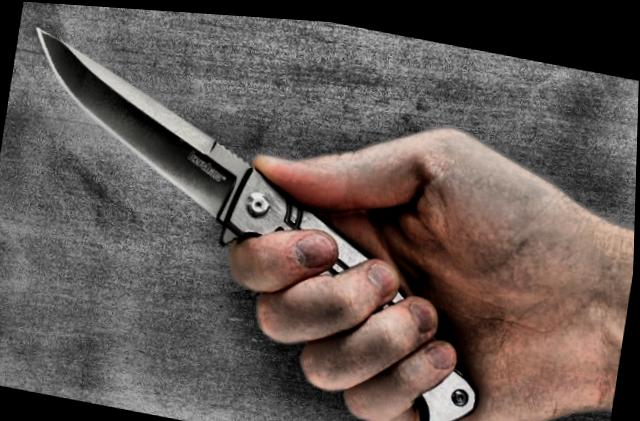knife: (0, 16, 536, 421)
